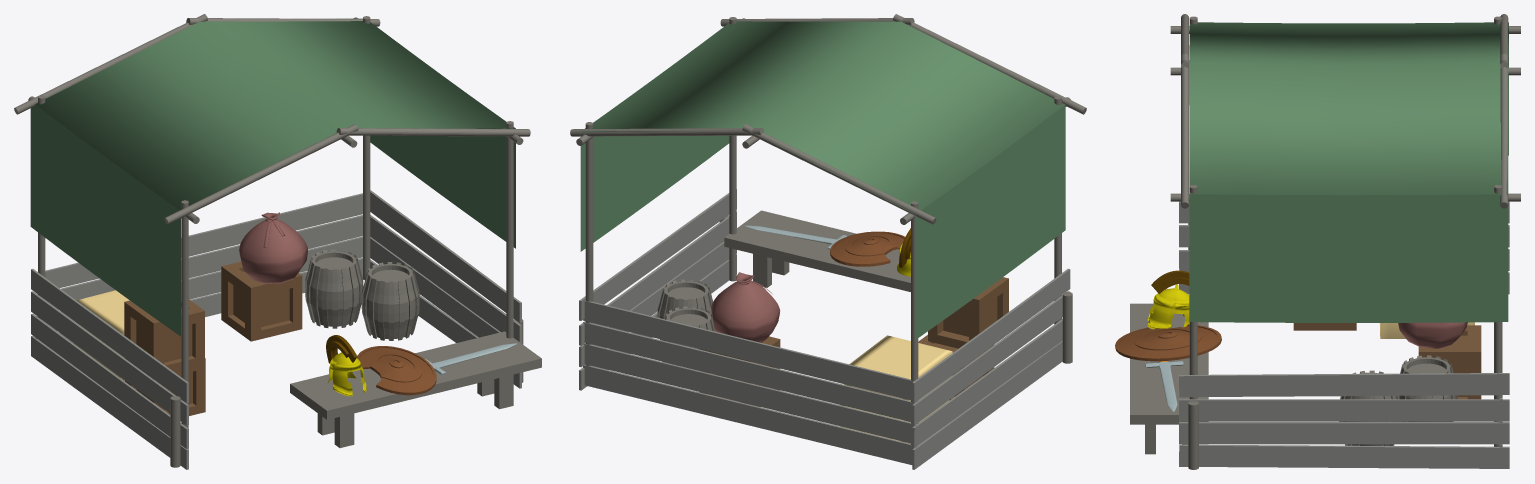
File: tent#002.glb
3 views of the same model, side by side, from view 1: azimuth 30°, elevation 25°; view 2: azimuth 150°, elevation 25°; view 3: azimuth 270°, elevation 25° (orthographic). The views are drawn at different scales.
Visible parts, largest first — view 1: Cube.005; view 2: Cube.005; view 3: Cube.005.
Part boxes in pixels (bbox=[...]): Cube.005: bbox=[14, 14, 541, 469]; Cube.005: bbox=[570, 14, 1086, 469]; Cube.005: bbox=[1115, 14, 1520, 469].
Bounding box in the file's own units: 2.34 × 1.86 × 2.13.
